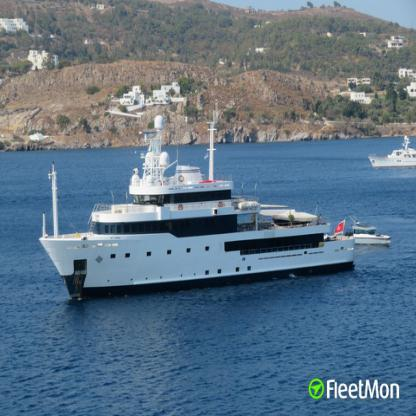Yacht: (39, 107, 356, 301)
